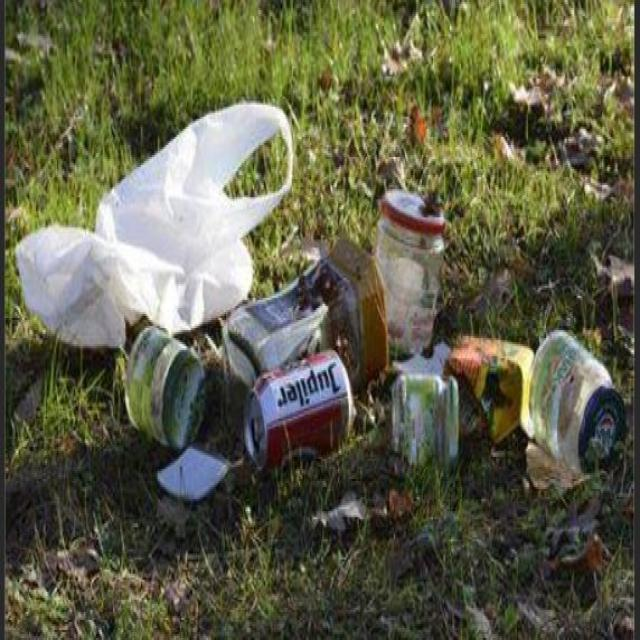metal: (239, 374, 369, 461)
paper: (147, 445, 237, 521)
plastic: (13, 120, 299, 332), (367, 173, 452, 346)
